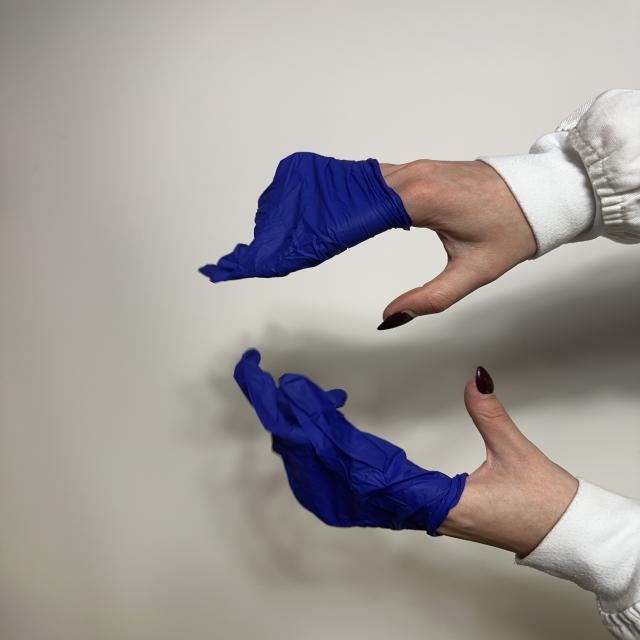glove_partial: (234, 350, 578, 555), (202, 153, 536, 330)
